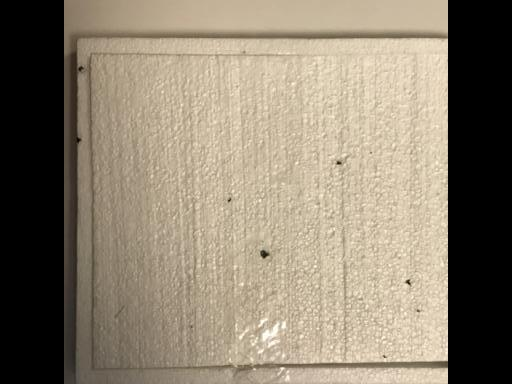cardboard: (0, 7, 448, 384)
